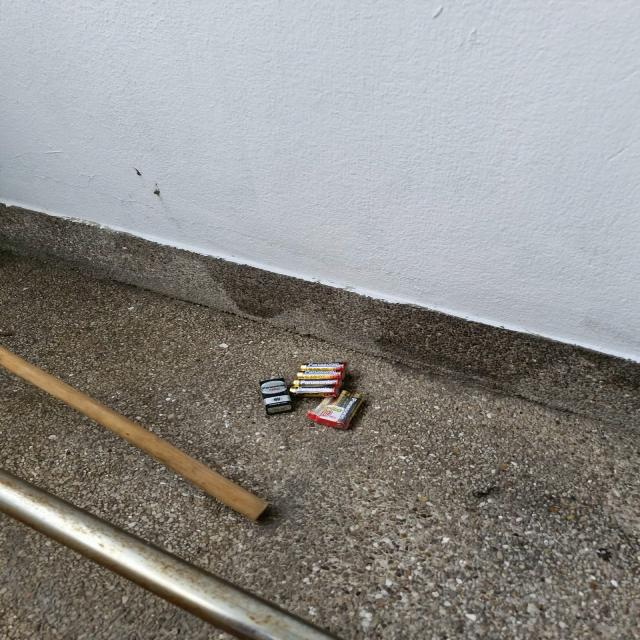battery: (249, 380, 292, 418)
